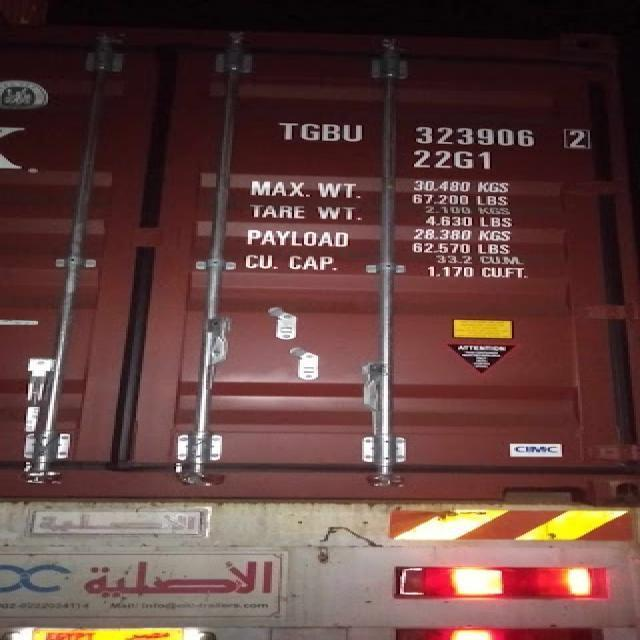ISO: (408, 146, 510, 170)
container_number: (276, 114, 589, 150)
